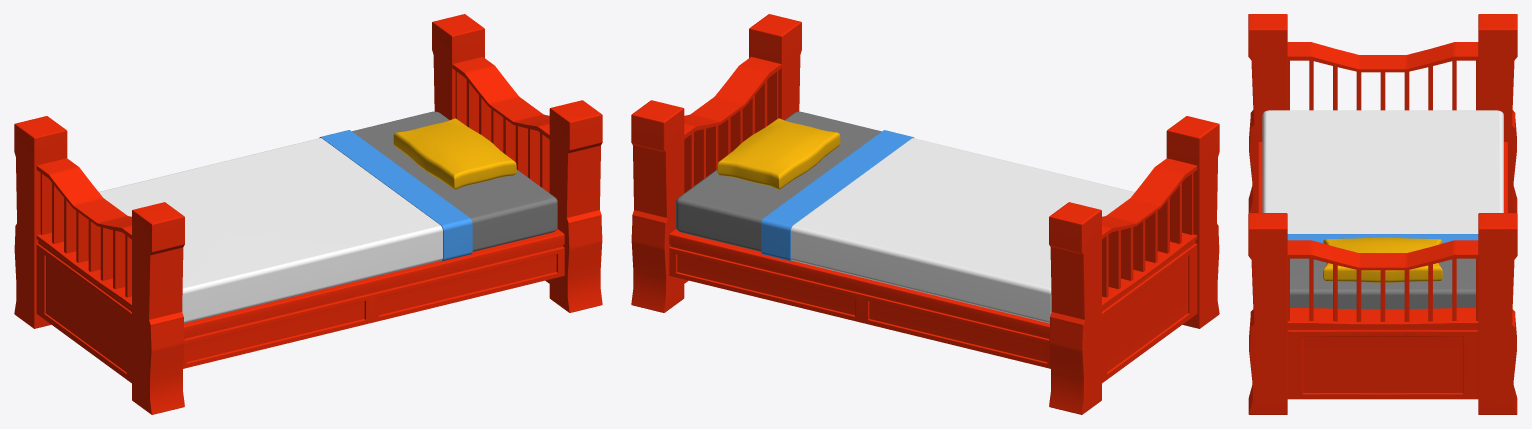
File: sm_kidbed.fbx
3 renders of one model, left to right at view 1: azimuth 30°, elevation 25°; view 2: azimuth 150°, elevation 25°; view 3: azimuth 270°, elevation 25°, orthographic. The views are drawn at different scales.
Visible parts, largest first — view 1: bedwood_low, bed_low (×3), pillow_low; view 2: bedwood_low, bed_low (×3), pillow_low; view 3: bedwood_low, bed_low (×3), pillow_low.
Boxes of the visible parts, bbox=[...] form: bedwood_low: bbox=[14, 14, 602, 414]; bed_low (×3): bbox=[99, 111, 557, 323]; pillow_low: bbox=[393, 118, 516, 189]; bedwood_low: bbox=[631, 14, 1219, 414]; bed_low (×3): bbox=[676, 111, 1134, 323]; pillow_low: bbox=[717, 118, 840, 189]; bedwood_low: bbox=[1248, 14, 1517, 414]; bed_low (×3): bbox=[1262, 110, 1503, 309]; pillow_low: bbox=[1323, 237, 1442, 282].
Size of the model in its own units: 183 by 74.2 by 96.97.
